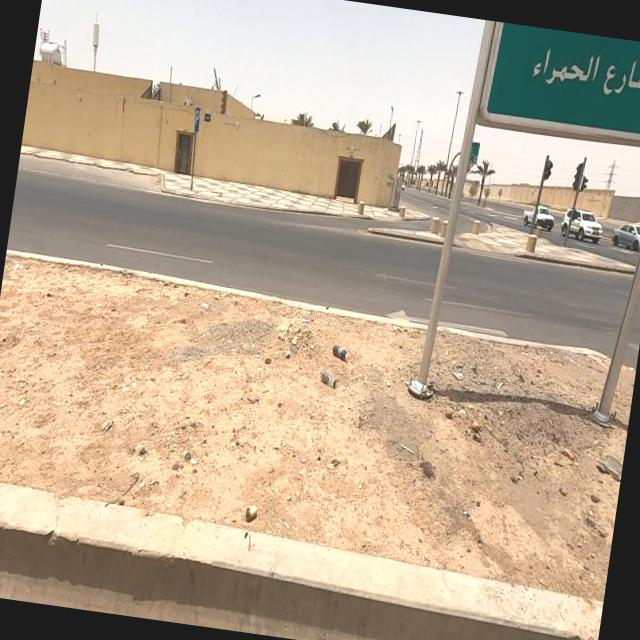debris: (278, 290, 410, 460), (398, 363, 526, 487), (216, 461, 297, 556)
